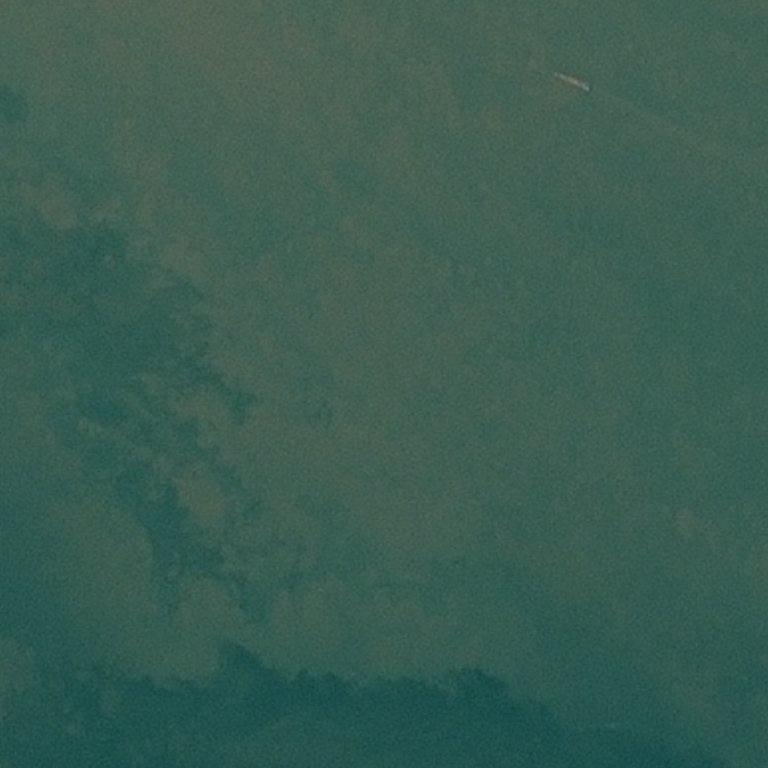ship: (550, 0, 594, 19), (552, 71, 555, 75), (588, 84, 591, 88), (586, 92, 590, 93)
